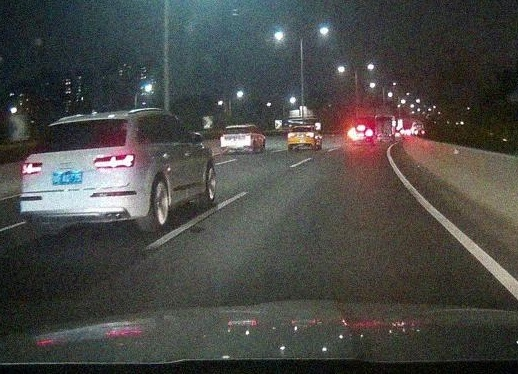L_light: (21, 161, 43, 175), (221, 136, 226, 148), (288, 133, 295, 139)
R_light: (93, 154, 135, 169), (245, 136, 251, 146), (306, 132, 315, 138)
T_light: (72, 121, 94, 125), (233, 127, 242, 129), (300, 126, 306, 127)
night-no: (20, 112, 139, 235), (219, 125, 252, 155), (288, 125, 316, 152)
